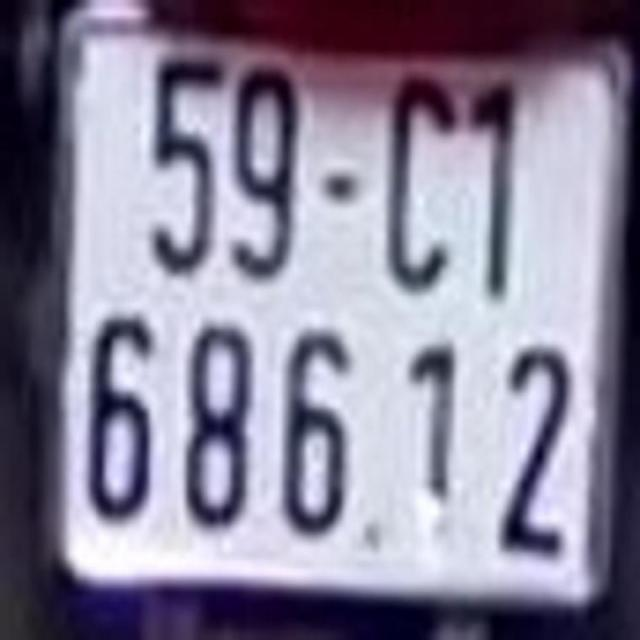1: (398, 329, 461, 553), (464, 75, 525, 304)
2: (496, 332, 574, 558)
5: (146, 51, 225, 276)
6: (276, 316, 351, 542), (84, 312, 158, 523)
8: (180, 311, 254, 531)
9: (232, 55, 300, 284)
C: (381, 66, 459, 292)
